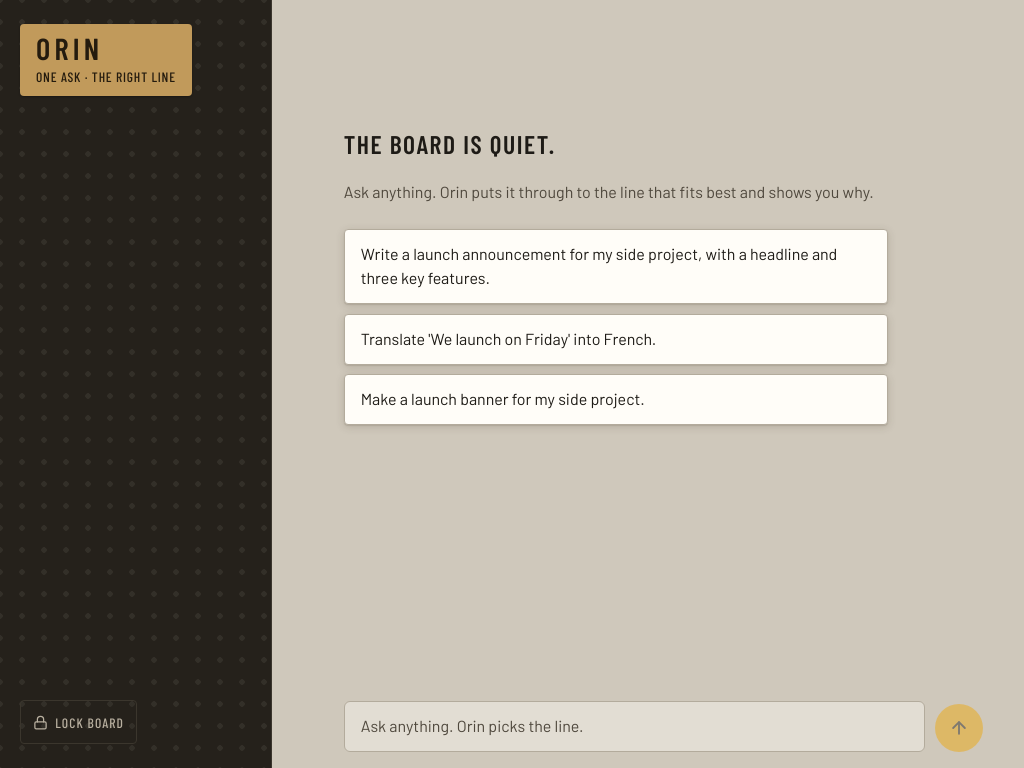
Scenario: owner session › stays open and reports the failure when locking fails
Click the button "Lock board" at (78, 722), box [20,700,137,744]
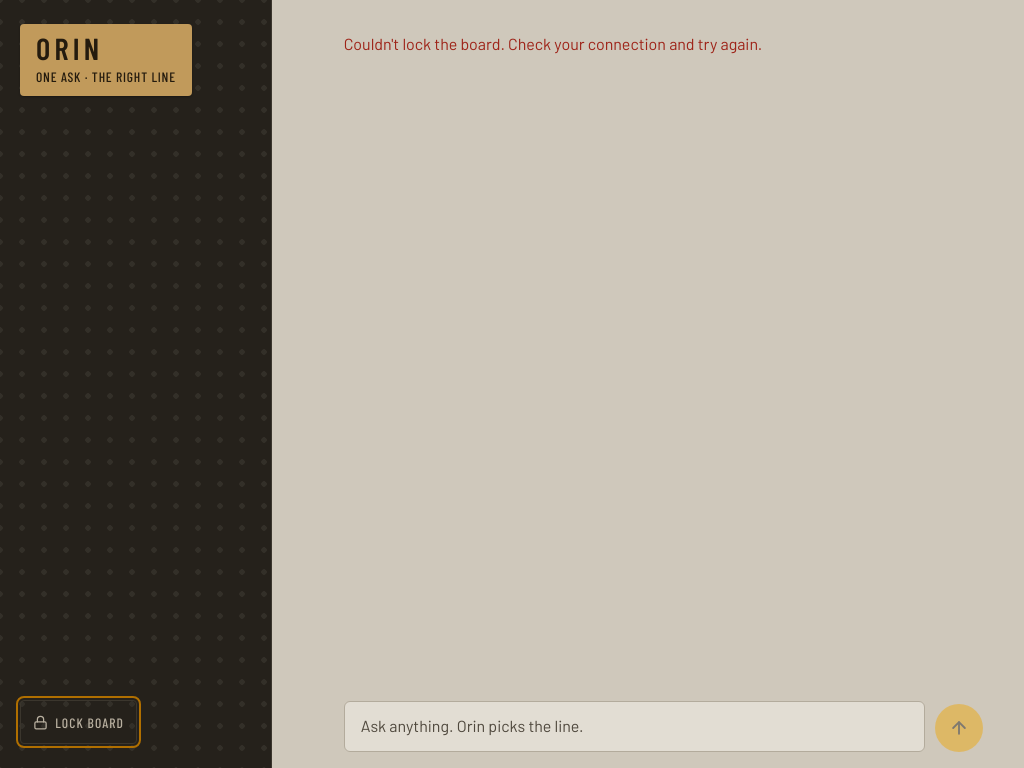
expect the message shows "Couldn't lock the board": met, box [344,34,762,53]
